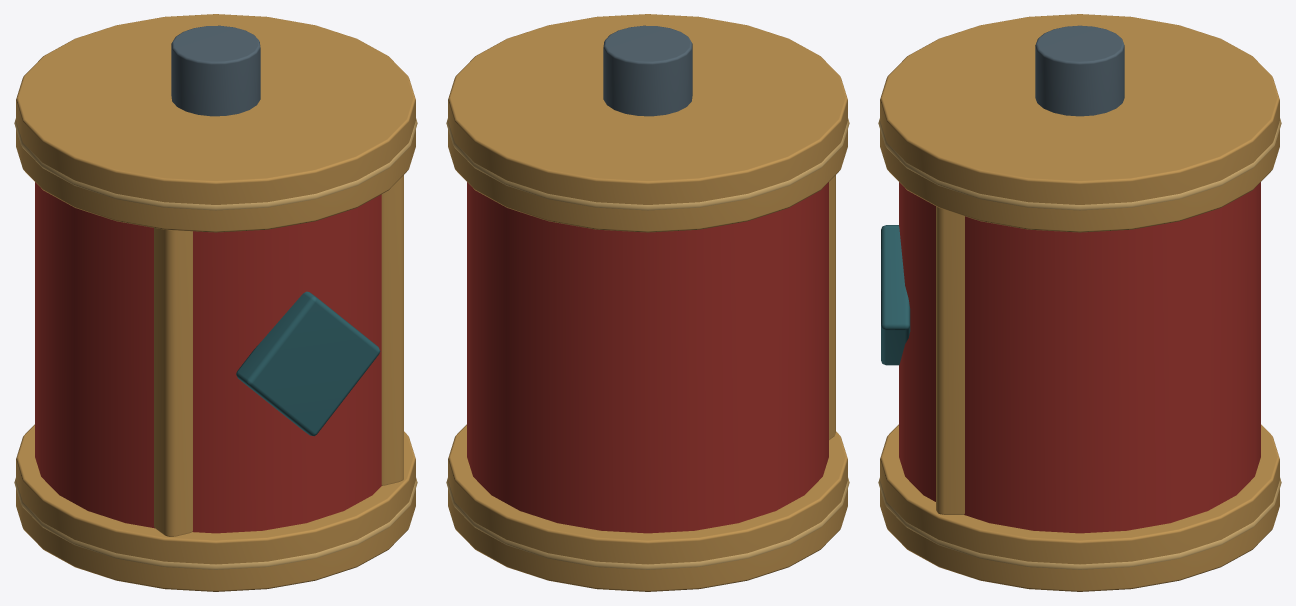
File: part_explosive.glb
The picture shows the model from 3 angles, left to right: view 1: azimuth 30°, elevation 25°; view 2: azimuth 150°, elevation 25°; view 3: azimuth 270°, elevation 25°; orthographic projection.
Visible parts, largest first — view 1: SM_part_explosive; view 2: SM_part_explosive; view 3: SM_part_explosive.
Boxes of the visible parts, x1=… form: SM_part_explosive: x1=14, y1=14, x2=417, y2=591; SM_part_explosive: x1=446, y1=14, x2=849, y2=591; SM_part_explosive: x1=878, y1=14, x2=1281, y2=591.
Size of the model in its own units: 0.234 by 0.2975 by 0.234.
